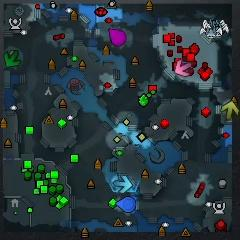p1: (116, 197, 136, 213)
p3: (108, 28, 127, 46)
x1: (174, 60, 191, 77)
x2: (221, 101, 238, 119)
x3: (114, 176, 131, 193)
x4: (4, 50, 20, 68)
